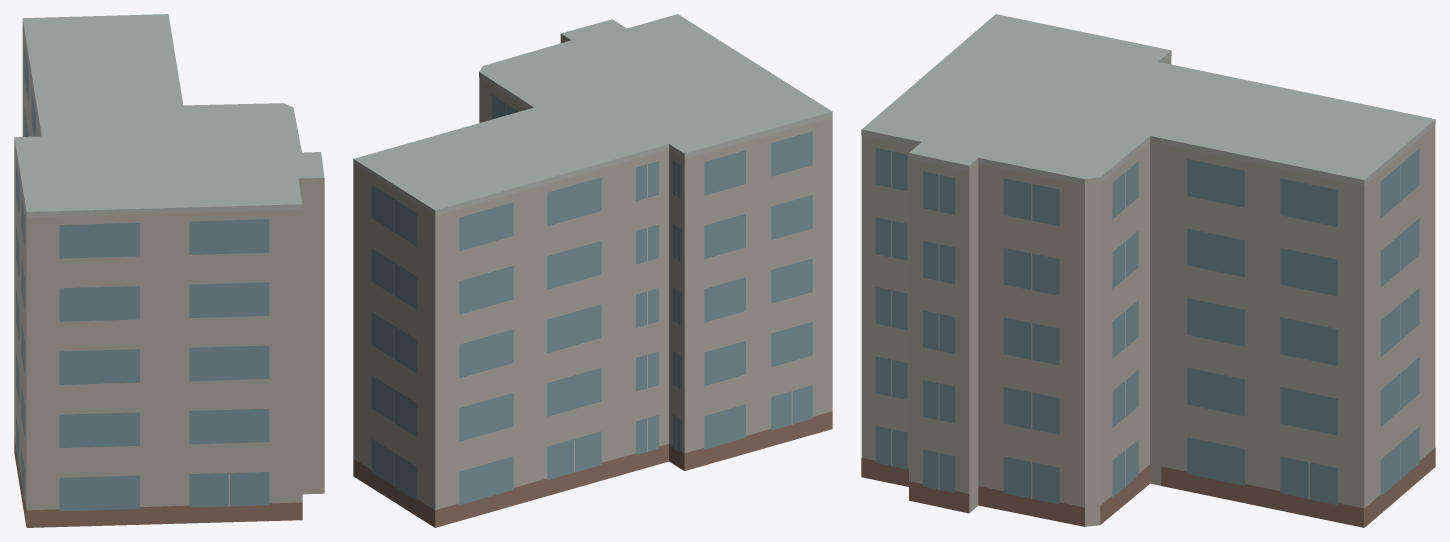
The model's file is survey-upis-32969038.glb.
3 views of the same model, side by side, from view 1: azimuth 30°, elevation 25°; view 2: azimuth 150°, elevation 25°; view 3: azimuth 270°, elevation 25° (orthographic). The views are drawn at different scales.
Visible parts, largest first — view 1: survey-upis-32969038.tmp; view 2: survey-upis-32969038.tmp; view 3: survey-upis-32969038.tmp.
Boxes of the visible parts, x1,y1,x2,y2 form: survey-upis-32969038.tmp: (14, 14, 324, 527); survey-upis-32969038.tmp: (353, 14, 832, 527); survey-upis-32969038.tmp: (861, 14, 1435, 527).
Size of the model in its own units: 14.67 by 14.3 by 21.4.
